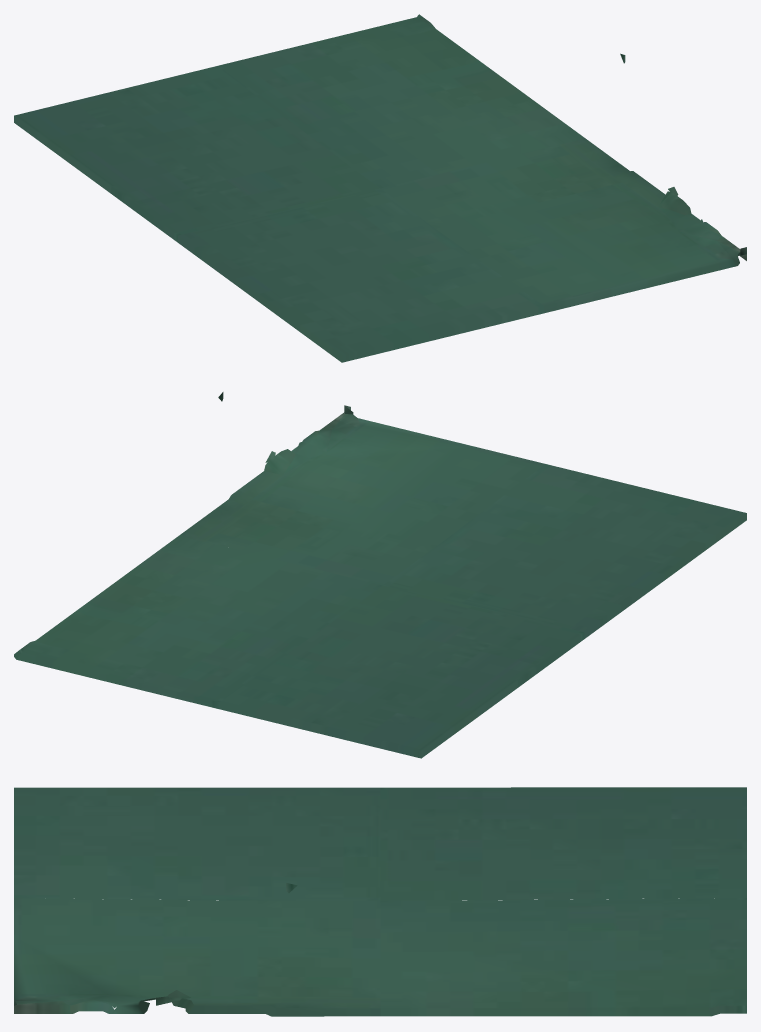
The picture shows the model from 3 angles, top to bottom: view 1: azimuth 30°, elevation 25°; view 2: azimuth 150°, elevation 25°; view 3: azimuth 270°, elevation 25°; orthographic projection. The views are drawn at different scales.
Parts seen in each view (by area): view 1: 30436272704370636710_0; view 2: 30436272704370636710_0; view 3: 30436272704370636710_0.
Boxes of the visible parts, bbox=[...] form: 30436272704370636710_0: bbox=[14, 14, 746, 362]; 30436272704370636710_0: bbox=[14, 392, 746, 758]; 30436272704370636710_0: bbox=[14, 787, 746, 1016].
Size of the model in its own units: 27.61 by 7.72 by 38.26.
Materials: 1 (1 with a texture image).
